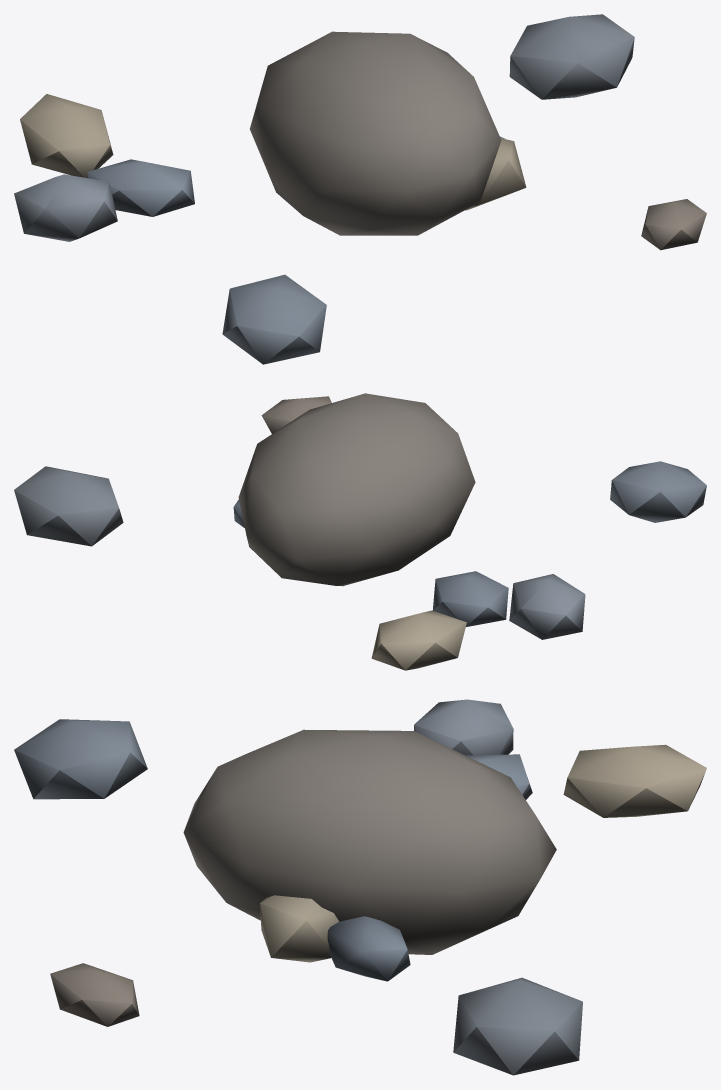
File: PB_Pebbles_B.glb
3 renders of one model, top to bottom at view 1: azimuth 30°, elevation 25°; view 2: azimuth 150°, elevation 25°; view 3: azimuth 270°, elevation 25°, orthographic. The views are drawn at different scales.
Visible parts, largest first — view 1: PB_Pebbles_B_1_SmoothPlastic; view 2: PB_Pebbles_B_1_SmoothPlastic; view 3: PB_Pebbles_B_1_SmoothPlastic.
Boxes of the visible parts, box(x1,y1,x2,y2) form: PB_Pebbles_B_1_SmoothPlastic: box(14, 14, 706, 364); PB_Pebbles_B_1_SmoothPlastic: box(14, 393, 706, 670); PB_Pebbles_B_1_SmoothPlastic: box(14, 699, 706, 1075).
Size of the model in its own units: 11.11 by 3.02 by 9.28.
